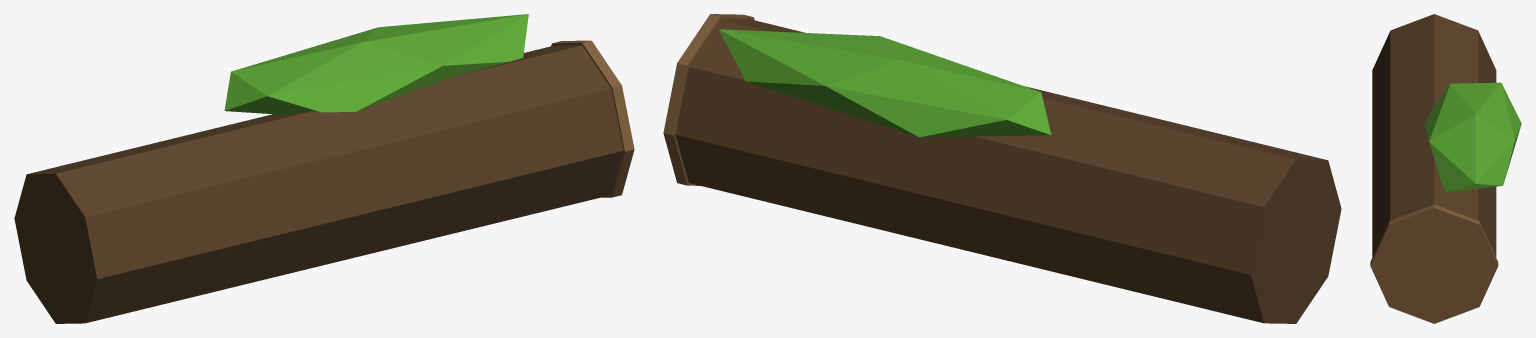
Rendered from log_single.glb.
3 renders of one model, left to right at view 1: azimuth 30°, elevation 25°; view 2: azimuth 150°, elevation 25°; view 3: azimuth 270°, elevation 25°, orthographic. The views are drawn at different scales.
Parts seen in each view (by area): view 1: log_single; view 2: log_single; view 3: log_single.
Boxes of the visible parts, <box> form: log_single: <box>14,14,634,323</box>; log_single: <box>663,14,1341,323</box>; log_single: <box>1370,14,1521,323</box>.
Size of what is drawn, in the model's own units: 2.24 by 0.7287 by 0.7327.
